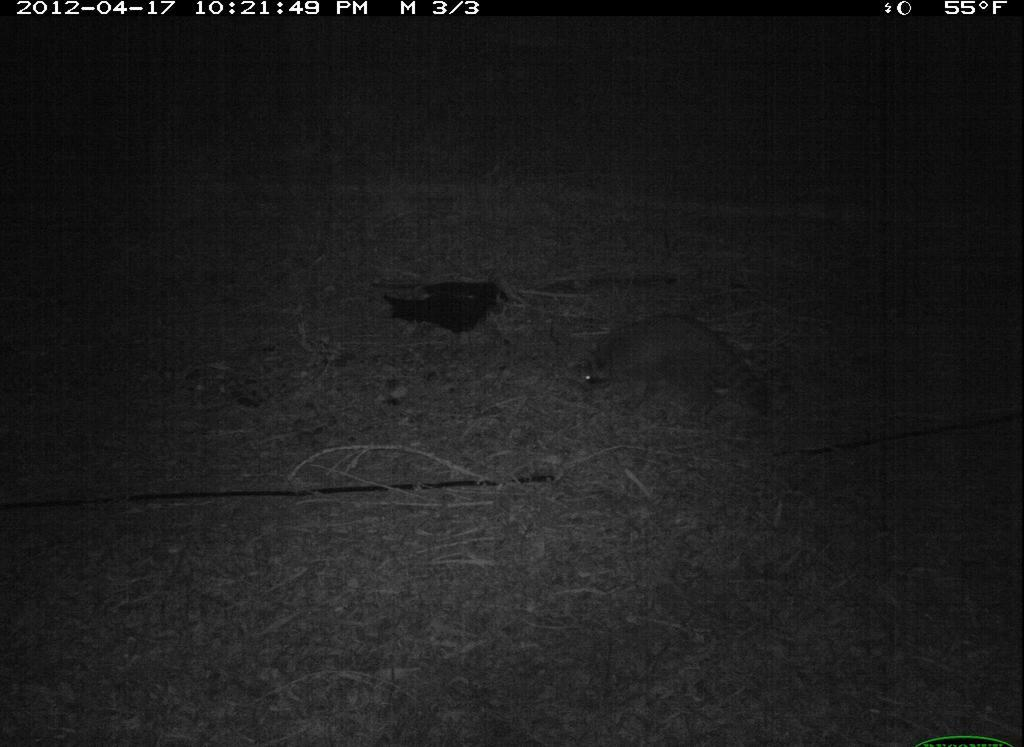raccoon: (578, 313, 780, 436)
